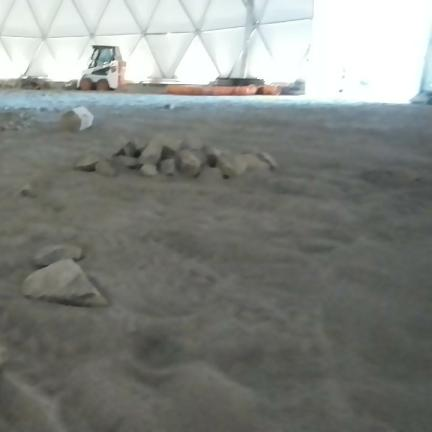Rock: (22, 258, 107, 307), (33, 245, 83, 267), (176, 149, 203, 178), (61, 107, 93, 131), (217, 153, 247, 178), (138, 142, 162, 165), (239, 153, 271, 170), (159, 137, 181, 161), (198, 167, 223, 184), (75, 155, 99, 171), (95, 159, 116, 176), (203, 146, 220, 167), (256, 152, 277, 169), (181, 134, 203, 150), (115, 156, 141, 168), (116, 141, 136, 156), (161, 159, 176, 175), (140, 164, 157, 176), (20, 185, 36, 197), (164, 104, 174, 110), (13, 126, 22, 130), (0, 125, 5, 131)
